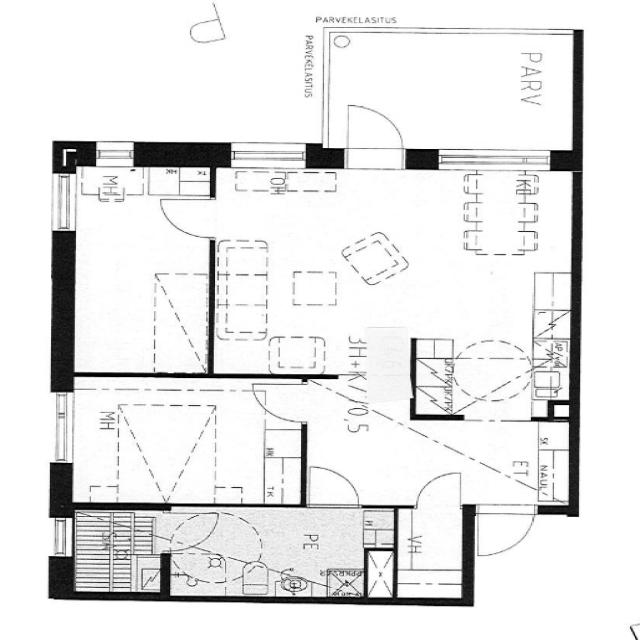door: (397, 508, 464, 600), (336, 100, 411, 174), (471, 503, 539, 558), (153, 192, 222, 242), (302, 464, 363, 509), (254, 378, 306, 427), (408, 470, 464, 513), (164, 511, 214, 551)
window: (429, 144, 561, 174), (218, 136, 317, 169), (44, 385, 79, 473), (45, 168, 81, 240), (88, 138, 141, 168), (48, 514, 73, 561)
zone: (212, 162, 370, 377), (62, 379, 310, 506), (64, 165, 207, 378), (437, 164, 574, 361), (157, 504, 377, 596), (66, 507, 162, 592), (432, 354, 543, 418), (396, 508, 465, 600)
